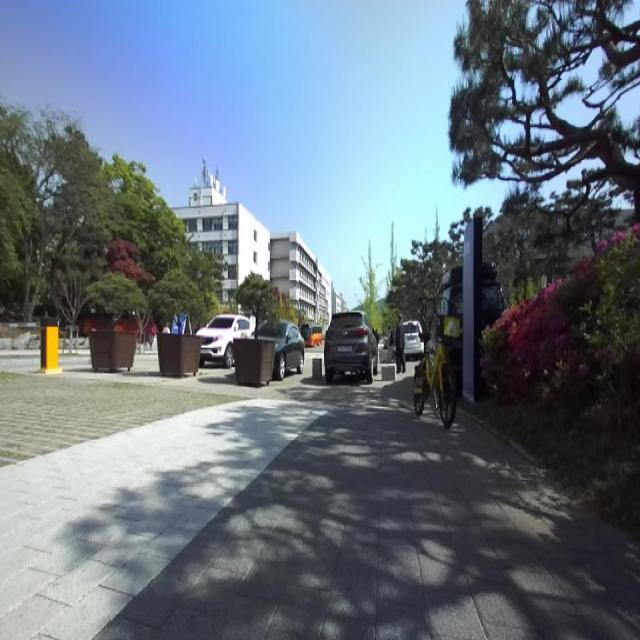sidewalk: (0, 374, 640, 639)
